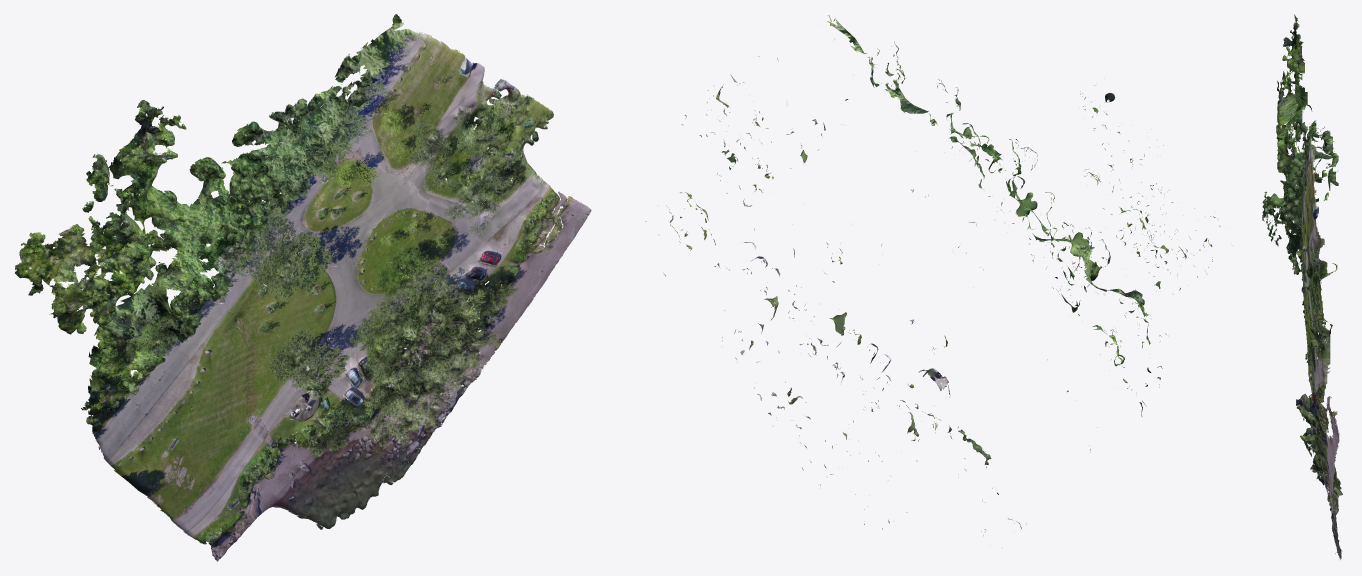
File: mapa_draco_v2.glb
3 renders of one model, left to right at view 1: azimuth 30°, elevation 25°; view 2: azimuth 150°, elevation 25°; view 3: azimuth 270°, elevation 25°, orthographic. The views are drawn at different scales.
Parts seen in each view (by area): view 1: Node; view 2: Node; view 3: Node.
Boxes of the visible parts, left/top/right/bottom form: Node: left=15, top=14, right=591, bottom=561; Node: left=645, top=15, right=1220, bottom=548; Node: left=1262, top=14, right=1342, bottom=559.
Size of the model in its own units: 130 by 106 by 17.93.
Materials: 10 (10 with a texture image).
